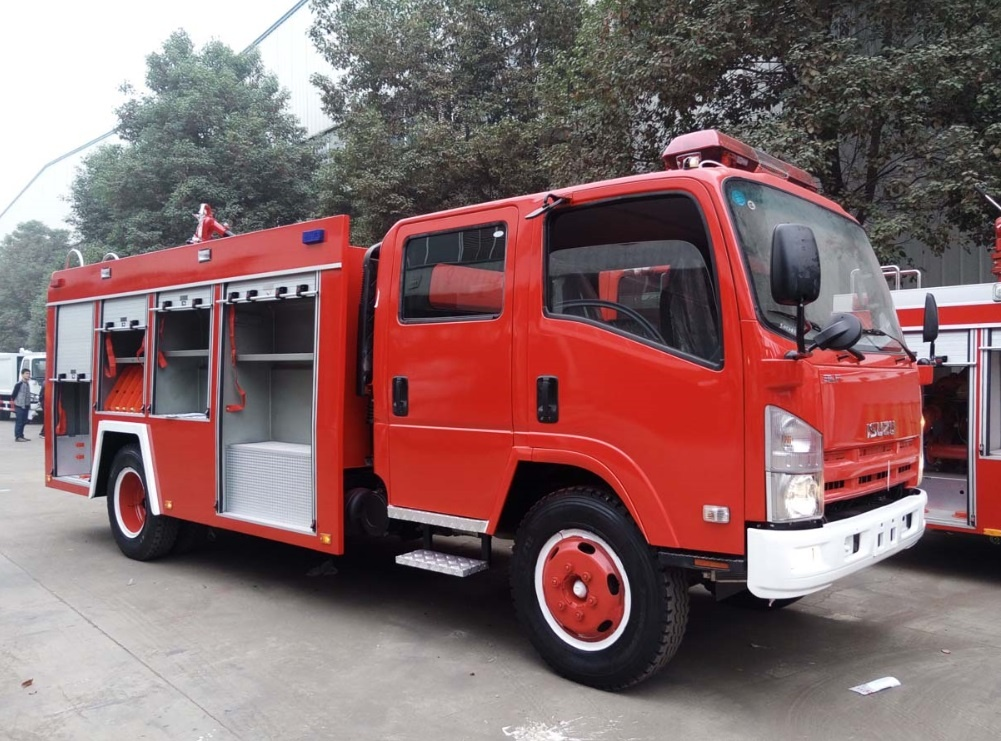fire engine: (29, 162, 937, 689)
